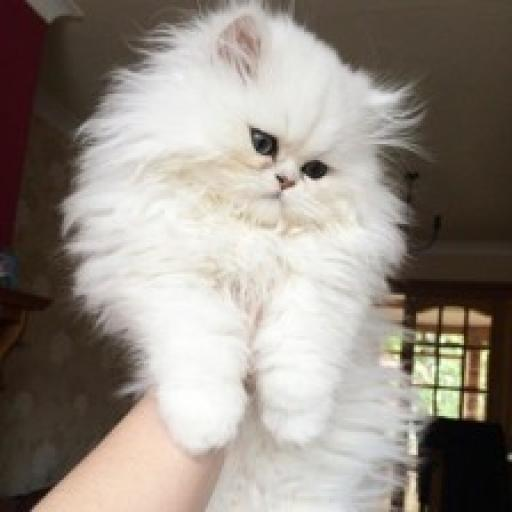cat: (59, 0, 470, 512)
